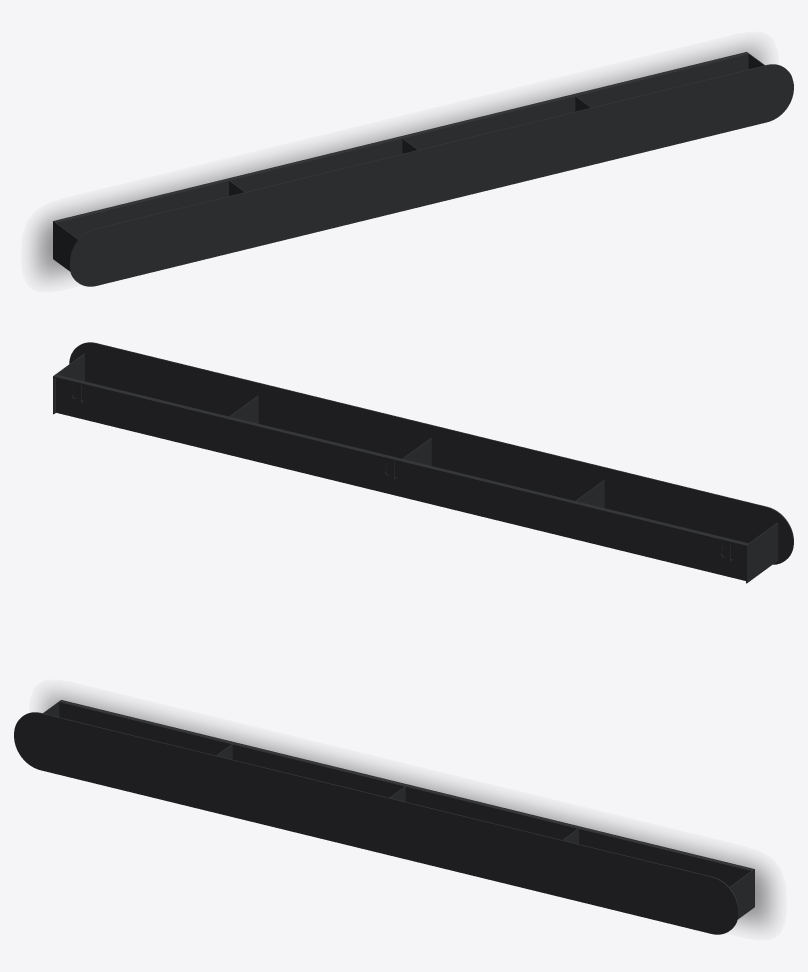
Rendered from round-mono.3e77448671.ar.glb.
The picture shows the model from 3 angles, top to bottom: view 1: azimuth 30°, elevation 25°; view 2: azimuth 150°, elevation 25°; view 3: azimuth 330°, elevation 25°; orthographic projection.
Parts seen in each view (by area): view 1: NAUO1, object 2; view 2: NAUO1; view 3: NAUO1, object 2.
Boxes of the visible parts, x1,y1,x2,y2 form: NAUO1: [53, 52, 793, 286]; object 2: [33, 45, 766, 278]; NAUO1: [53, 342, 793, 583]; NAUO1: [14, 700, 754, 934]; object 2: [41, 693, 774, 926].
Bounding box in the file's own units: 1.28 × 0.17 × 0.092.
Materials: 2 (1 with a texture image).
